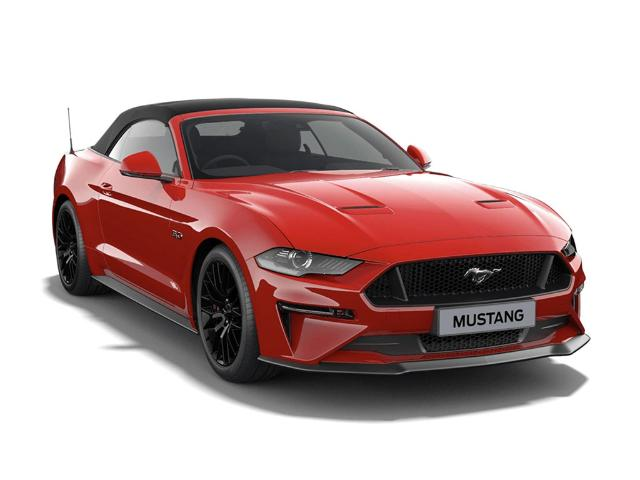ford-mustang: (52, 98, 590, 382)
